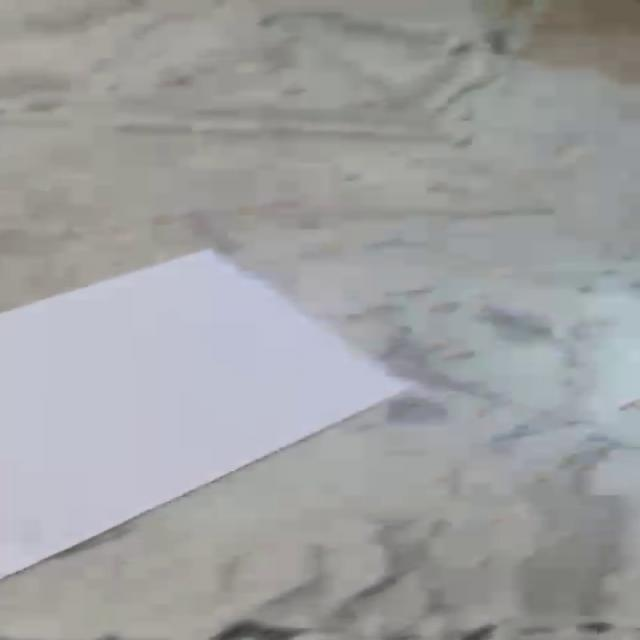road: (0, 249, 405, 583)
